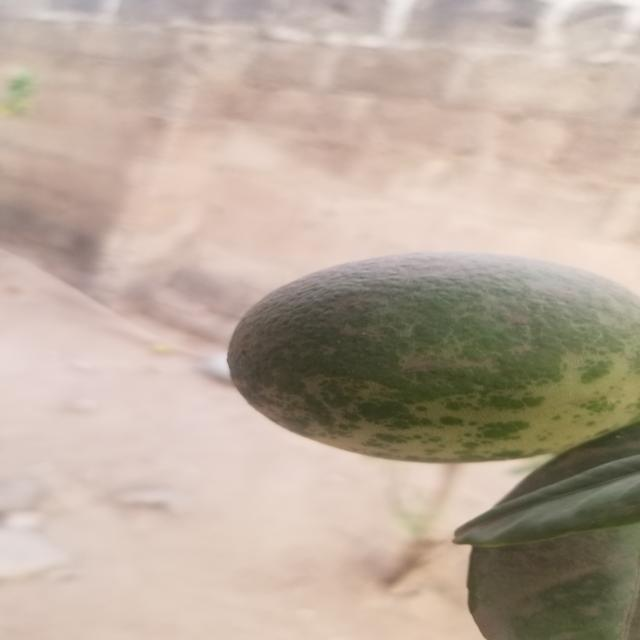Unripe: (232, 248, 640, 460)
